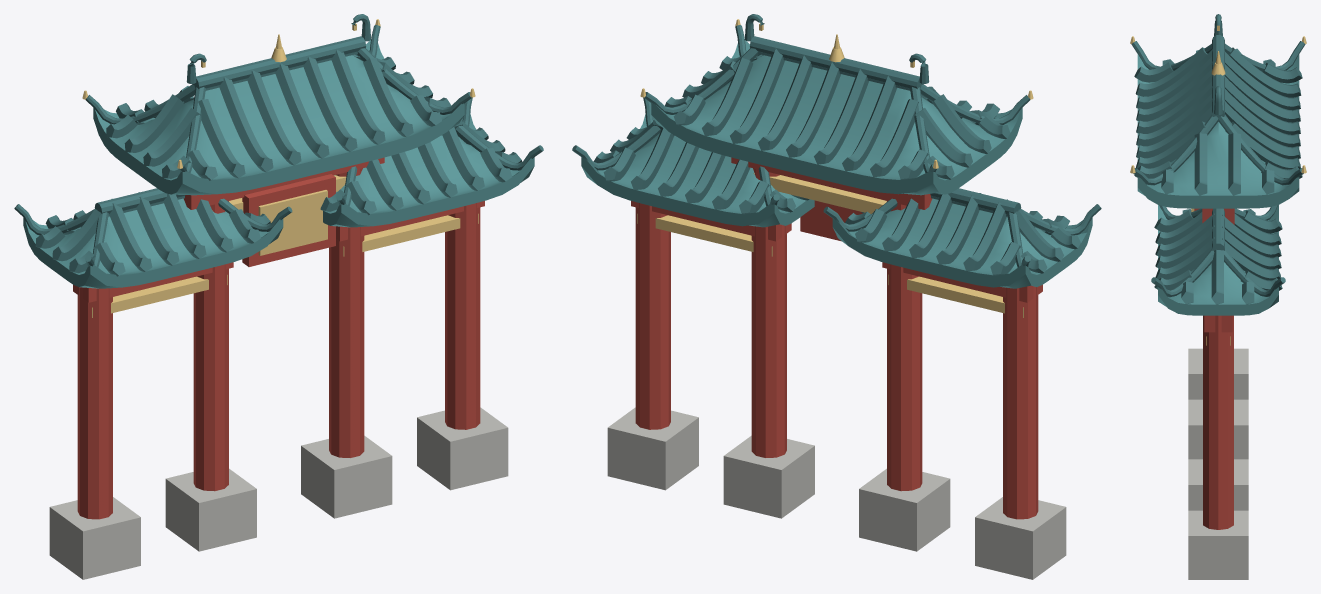
File: SonMon_gate.fbx
3 views of the same model, side by side, from view 1: azimuth 30°, elevation 25°; view 2: azimuth 150°, elevation 25°; view 3: azimuth 270°, elevation 25° (orthographic). The views are drawn at different scales.
Visible parts, largest first — view 1: gate; view 2: gate; view 3: gate.
Part boxes in pixels (x1,y1,x2,y2): gate: [14, 14, 543, 579]; gate: [572, 14, 1101, 579]; gate: [1130, 14, 1306, 579].
Size of the model in its own units: 2.37 by 2.38 by 0.874.
